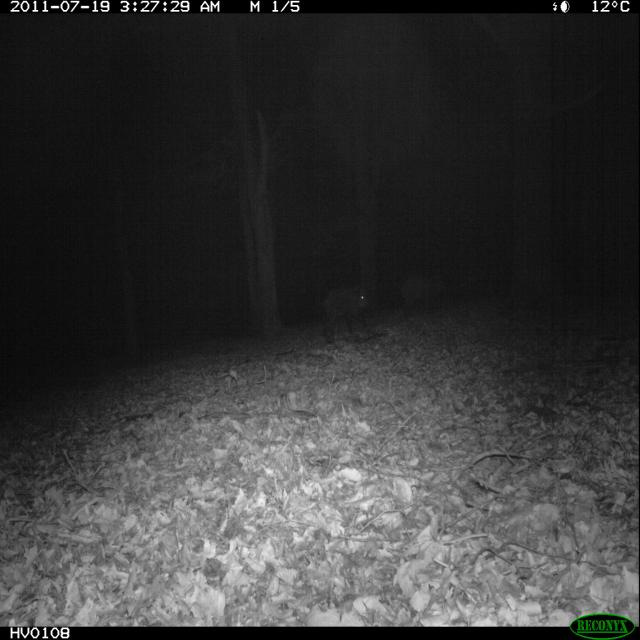boar: (313, 277, 378, 352)
